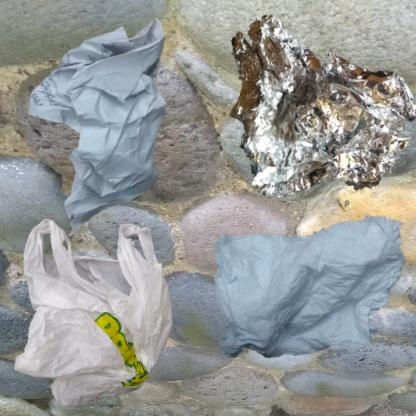aluminio: (213, 10, 416, 216)
bolsa: (10, 213, 184, 416)
papel: (10, 10, 226, 256), (213, 213, 409, 361)
